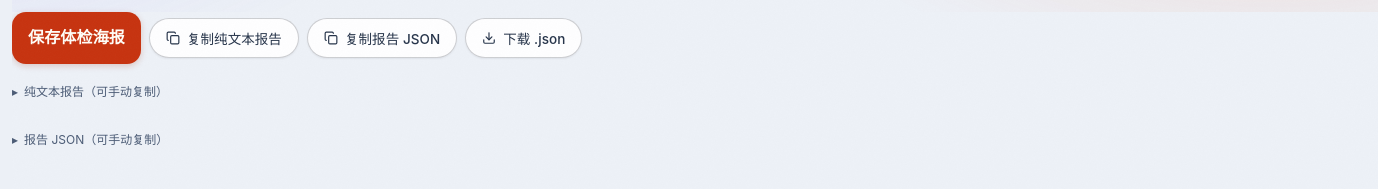
Test case: TripCheckShareActions › 下载失败：明确提示，并保留可手动复制的 JSON details
Click the button "下载 .json": [524, 38] box top-left (465, 18), bottom-right (582, 58)
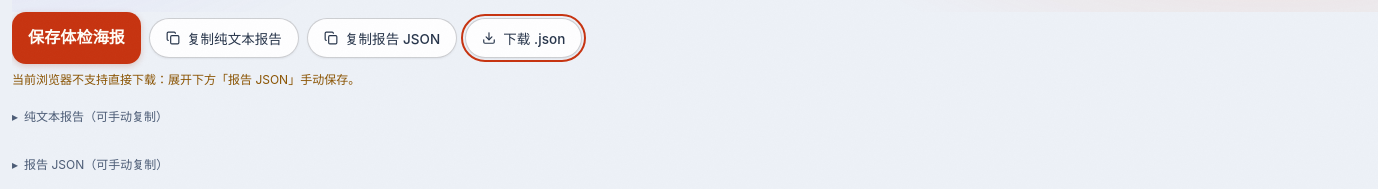
Expected: the heading "报告 JSON（可手动复制）" is shown, top-left (24, 157), bottom-right (168, 172)
Result: the text "当前浏览器不支持直接下载：展开下方「报告 JSON」手动保存。" is shown at top-left (12, 72), bottom-right (360, 87)
